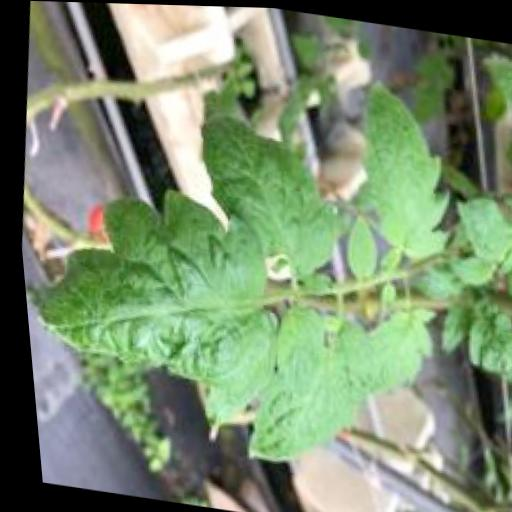Healthy: (12, 170, 294, 399), (179, 108, 357, 284), (333, 75, 465, 265)
